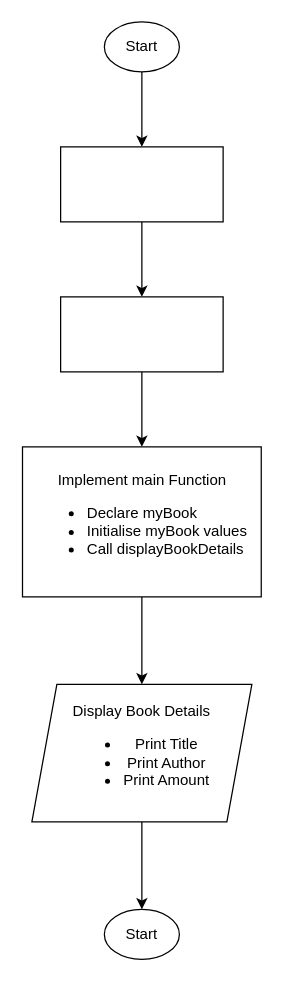
The diagram is 283 pixels wide and 981 high, and some of its shapes have lost their labels. The box of each missing label's shape, as (x1, y1, x2, y2) in pixels:
Declare displayBookDetails Function: (59, 296, 223, 372)
Define BookDetail Structure: (59, 146, 223, 222)
